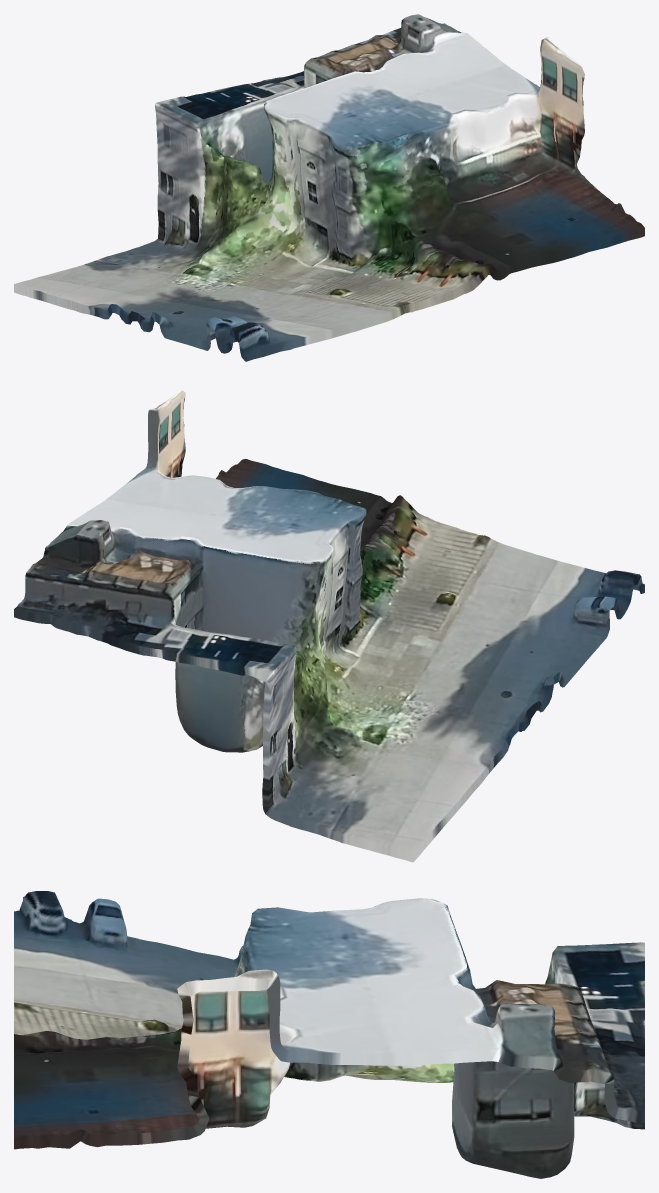
Rendered from z20-167751-405197-h0-yup-uvflip-v3-world.glb.
3 renders of one model, top to bottom at view 1: azimuth 30°, elevation 25°; view 2: azimuth 150°, elevation 25°; view 3: azimuth 270°, elevation 25°, orthographic. The views are drawn at different scales.
Bounding box in the file's own units: 30.16 × 18.6 × 30.32.
Materials: 1 (1 with a texture image).
